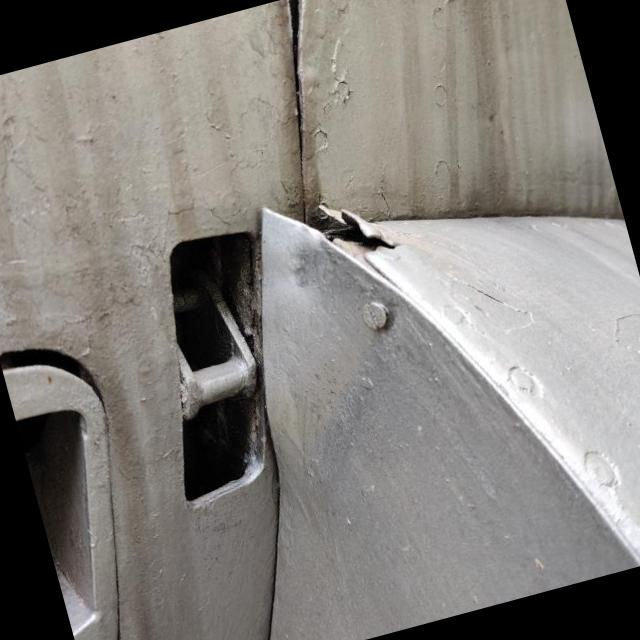Crack: (308, 203, 399, 249)
